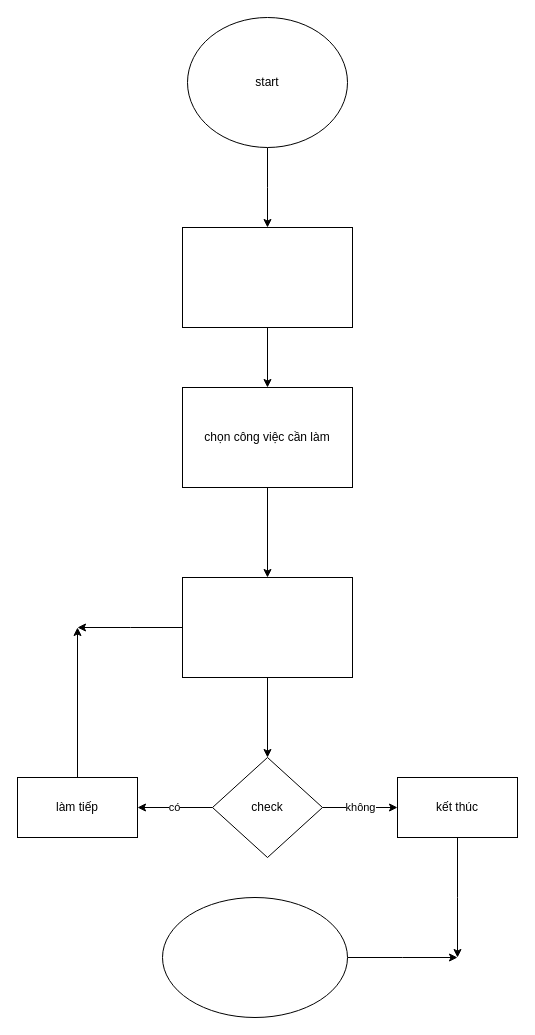
The diagram is 535 pixels wide and 1035 high, and some of its shapes have lost their labels. Each missing label, with the centre of its shape:
end: pixel 255 957
hoàn thành công việc cần đánh dấu: pixel 267 627
liệt kê các công việc cần làm: pixel 267 277
